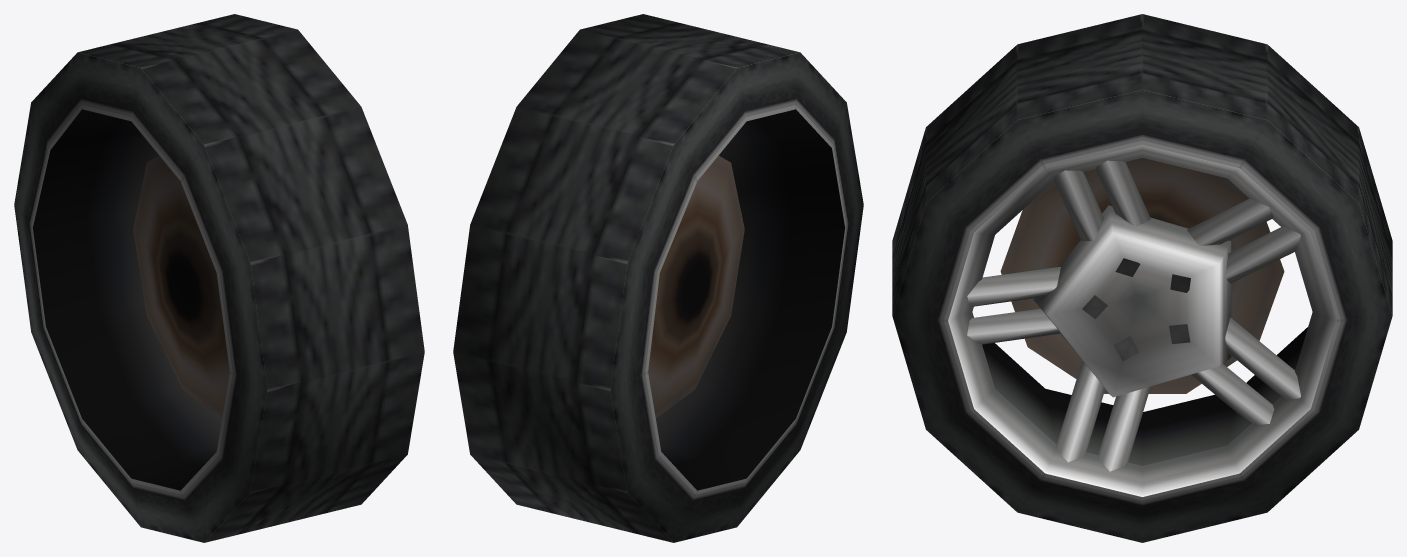
Rendered from DefaultWheel_elegy.glb.
3 renders of one model, left to right at view 1: azimuth 30°, elevation 25°; view 2: azimuth 150°, elevation 25°; view 3: azimuth 270°, elevation 25°, orthographic.
Visible parts, largest first — view 1: wheel; view 2: wheel; view 3: wheel.
Part boxes in pixels (<box>): wheel: <box>14,14,424,542</box>; wheel: <box>453,14,863,542</box>; wheel: <box>892,14,1392,542</box>.
Size of the model in its own units: 0.2764 by 0.6884 by 0.6884.
2 materials, 2 textured.
